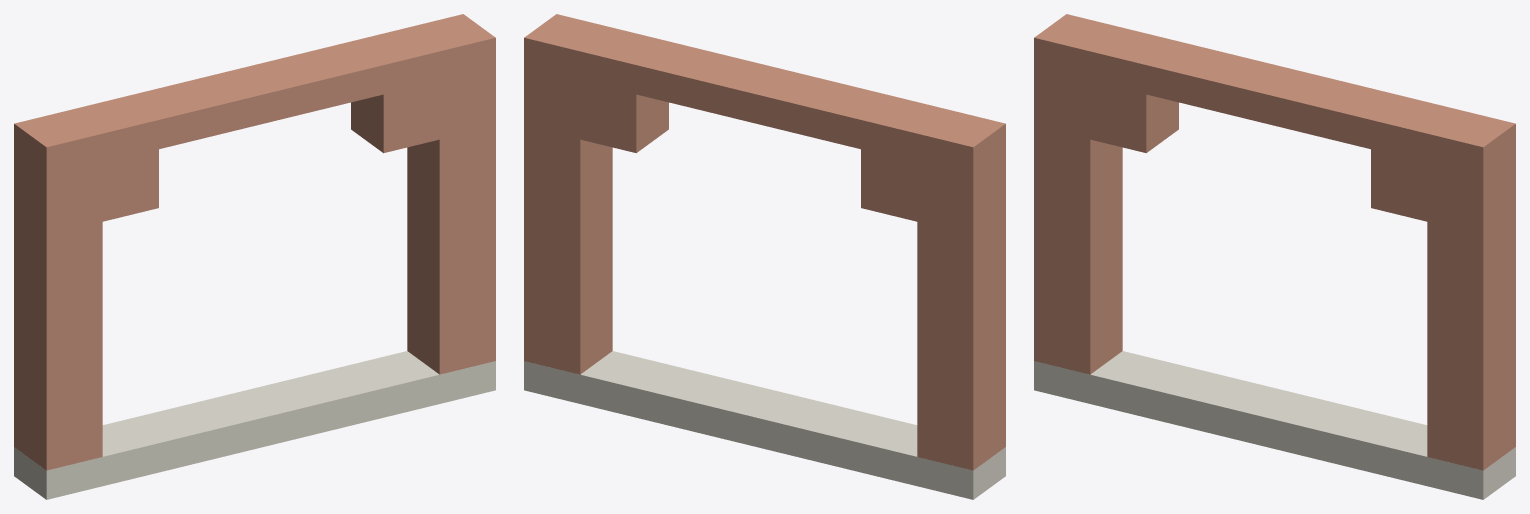
The model's file is voxel-city-districts-arcade-opening-bay-d8c2fec9__24804.glb.
The picture shows the model from 3 angles, left to right: view 1: azimuth 30°, elevation 25°; view 2: azimuth 150°, elevation 25°; view 3: azimuth 330°, elevation 25°; orthographic projection.
Visible parts, largest first — view 1: arcade-opening-bay-brick, arcade-opening-bay-concrete; view 2: arcade-opening-bay-brick, arcade-opening-bay-concrete; view 3: arcade-opening-bay-brick, arcade-opening-bay-concrete.
Boxes of the visible parts, x1,y1,x2,y2 form: arcade-opening-bay-brick: [14, 14, 495, 470]; arcade-opening-bay-concrete: [14, 351, 495, 499]; arcade-opening-bay-brick: [524, 14, 1005, 470]; arcade-opening-bay-concrete: [524, 351, 1005, 499]; arcade-opening-bay-brick: [1034, 14, 1515, 470]; arcade-opening-bay-concrete: [1034, 351, 1515, 499].
Size of the model in its own units: 4 by 3 by 0.5.
